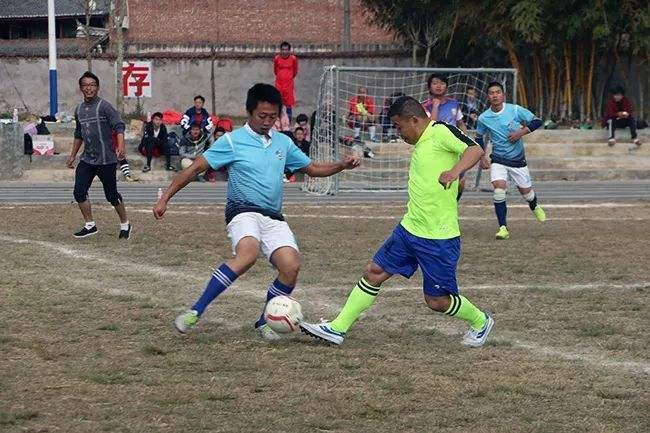football: (267, 295, 302, 333)
